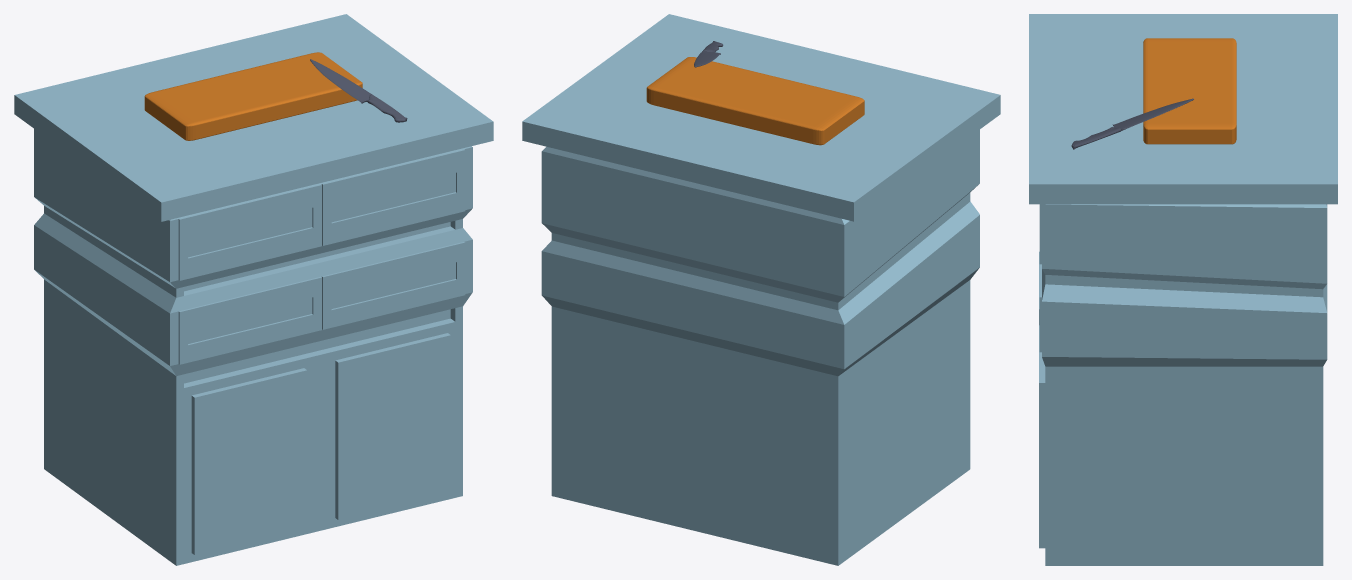
File: cutting_station.fbx
The picture shows the model from 3 angles, left to right: view 1: azimuth 30°, elevation 25°; view 2: azimuth 150°, elevation 25°; view 3: azimuth 270°, elevation 25°; orthographic projection. The views are drawn at different scales.
Visible parts, largest first — view 1: counter, cutting board, knife; view 2: counter, cutting board; view 3: counter, cutting board, knife.
Part boxes in pixels (bbox=[...]): counter: bbox=[14, 14, 493, 565]; cutting board: bbox=[144, 52, 362, 140]; knife: bbox=[310, 59, 407, 122]; counter: bbox=[522, 14, 1000, 565]; cutting board: bbox=[646, 57, 864, 145]; counter: bbox=[1029, 14, 1337, 565]; cutting board: bbox=[1143, 38, 1236, 144]; knife: bbox=[1071, 98, 1193, 149].
Bounding box in the file's own units: 863 × 1006 × 662.
